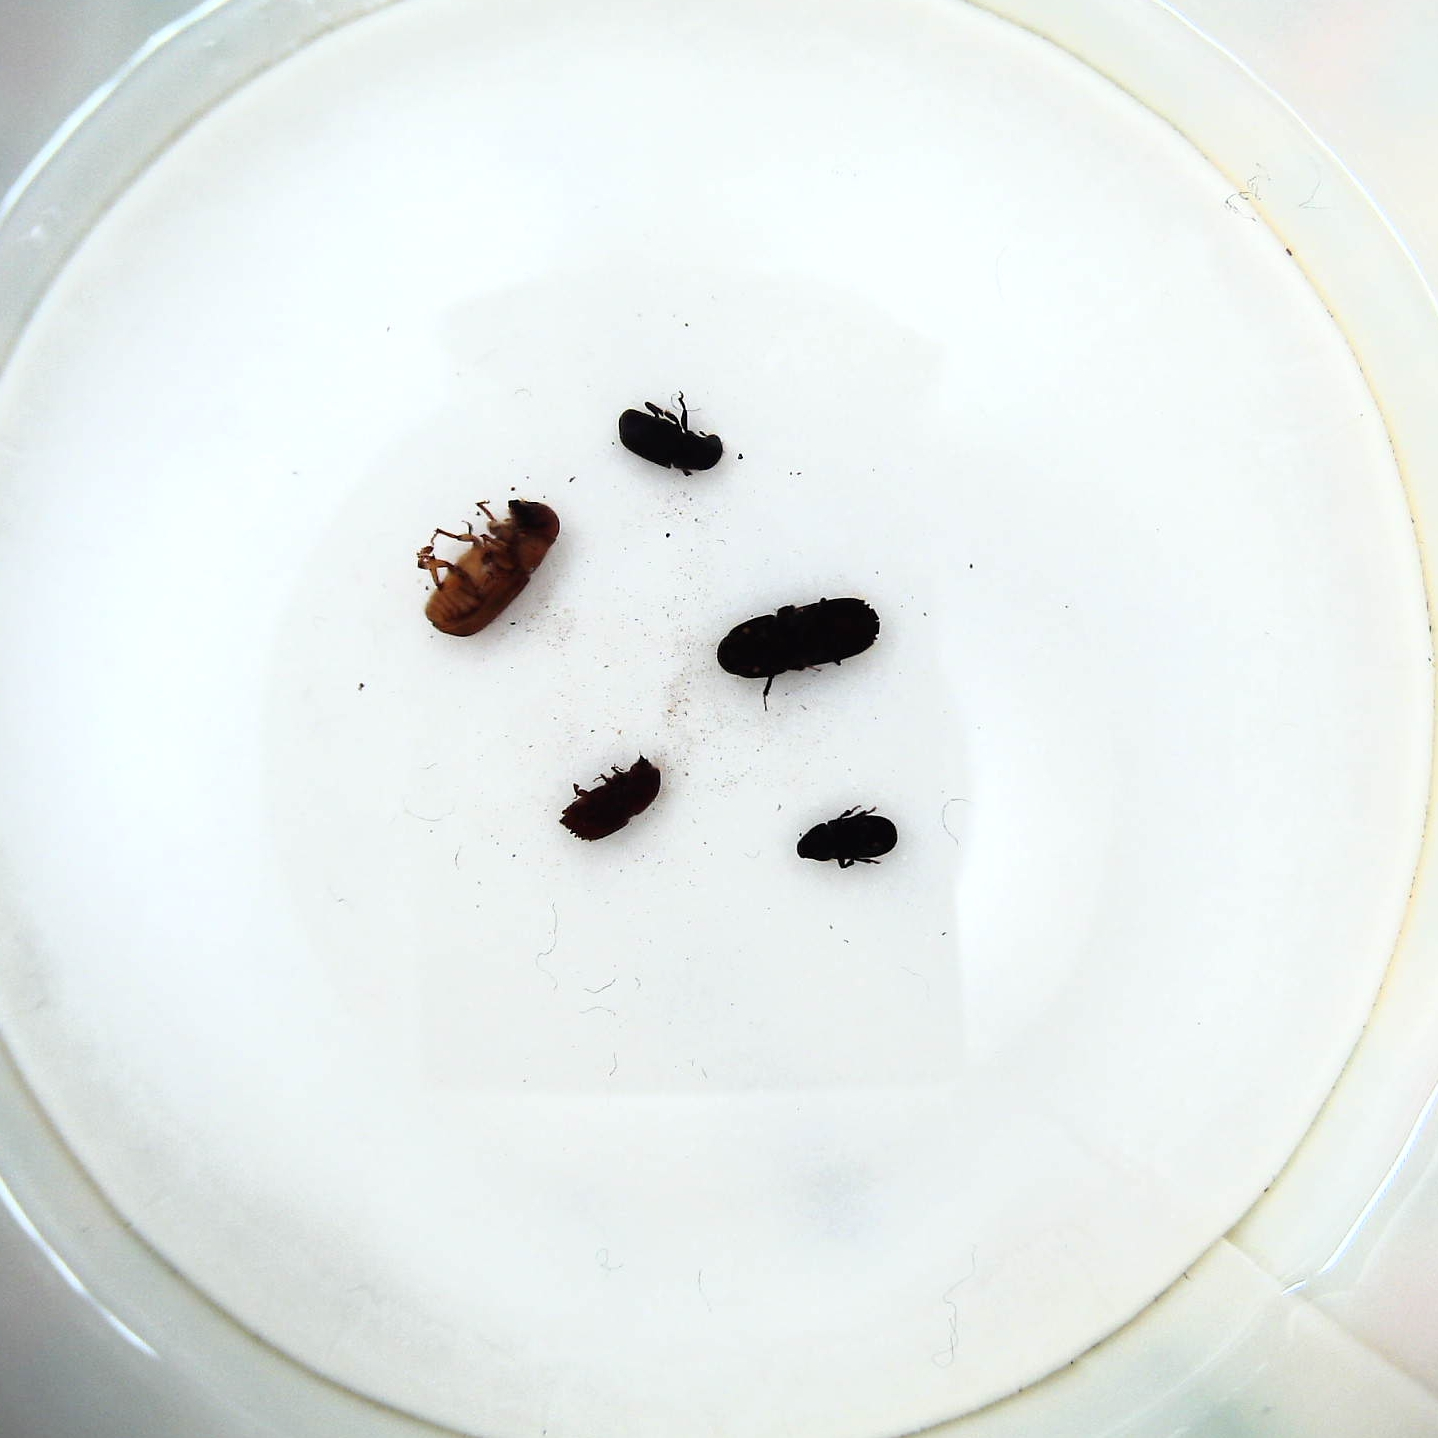Boerner: (711, 599, 882, 691)
Leconte: (413, 493, 562, 640)
armandi: (611, 396, 726, 485)
coleoptera: (789, 806, 899, 877)
linnaeus: (557, 753, 668, 845)
